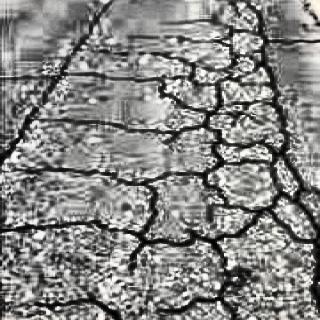alligator-crack: (31, 24, 304, 315)
